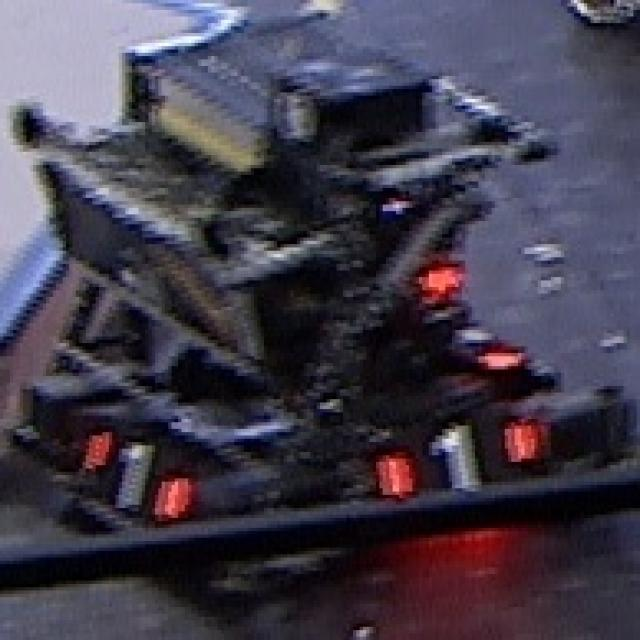R1: (376, 412, 538, 495), (79, 429, 195, 518)
